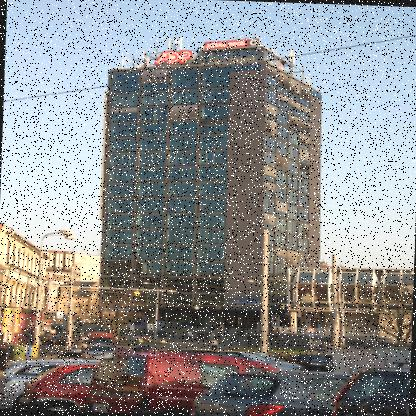Car: (4, 343, 411, 415), (82, 344, 116, 361), (128, 347, 160, 357)
